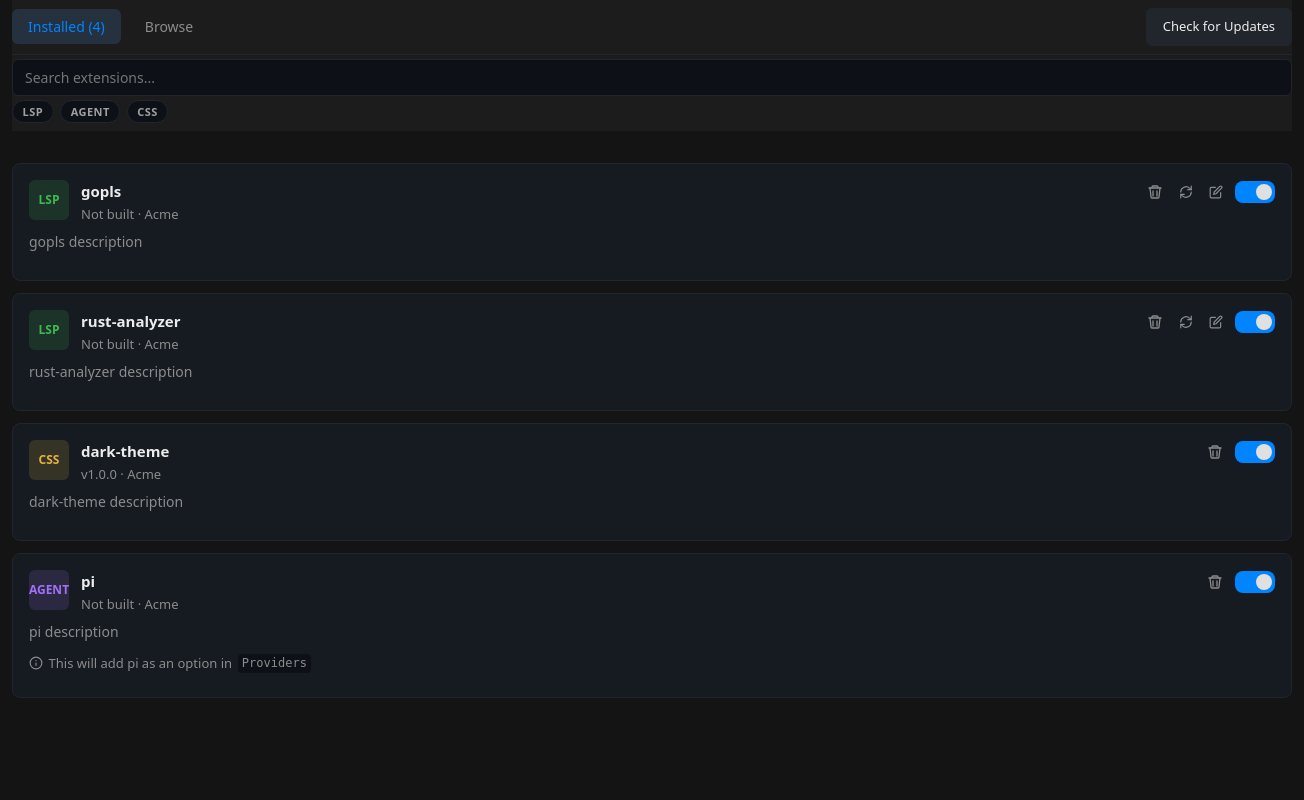
Test: the same selection under Browse › narrows the registry list and re-counts over what the registry holds
The image size is (1304, 800).
expect the text "gopls" is shown: met, box [81,180,121,202]
Click the button with class "category-badge" showing "LSP" at (33, 111), box [12,100,54,123]
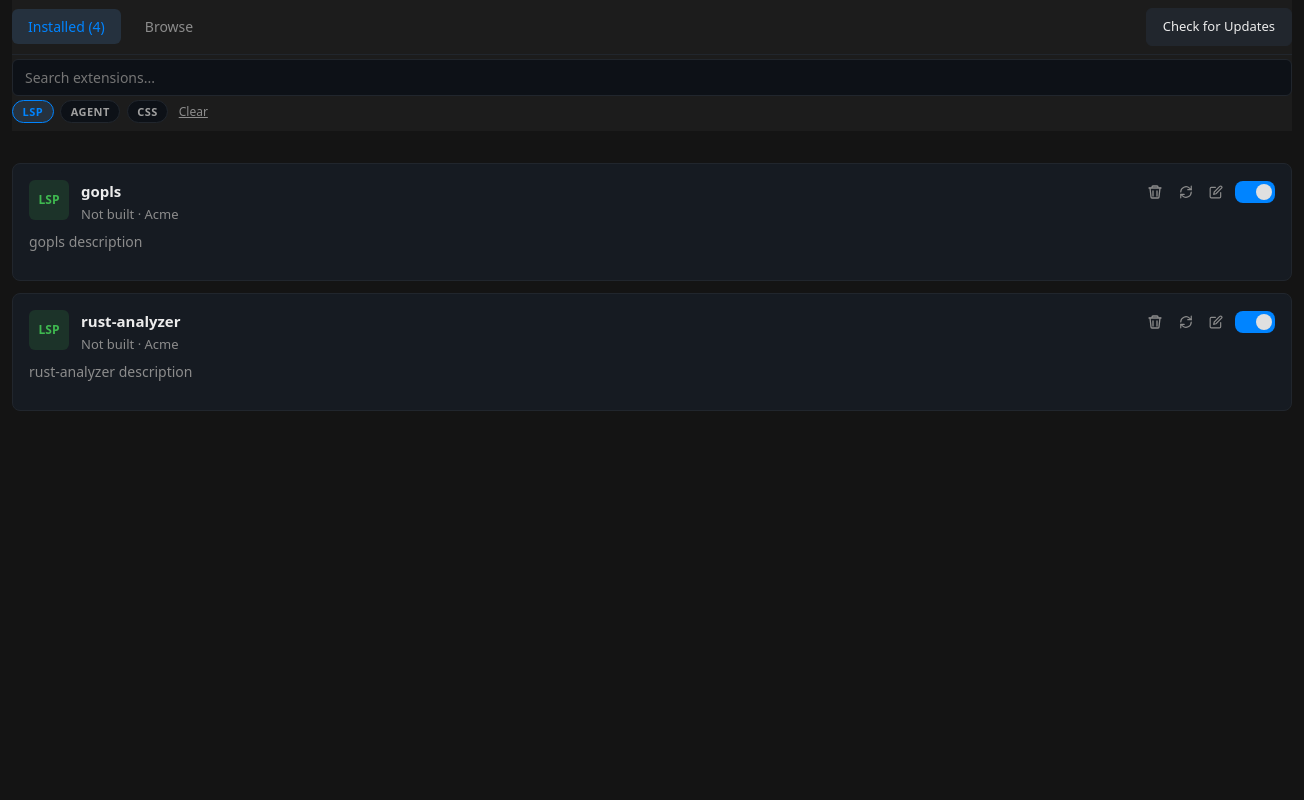
Click the button "Browse" at (169, 27), box [129,9,209,44]
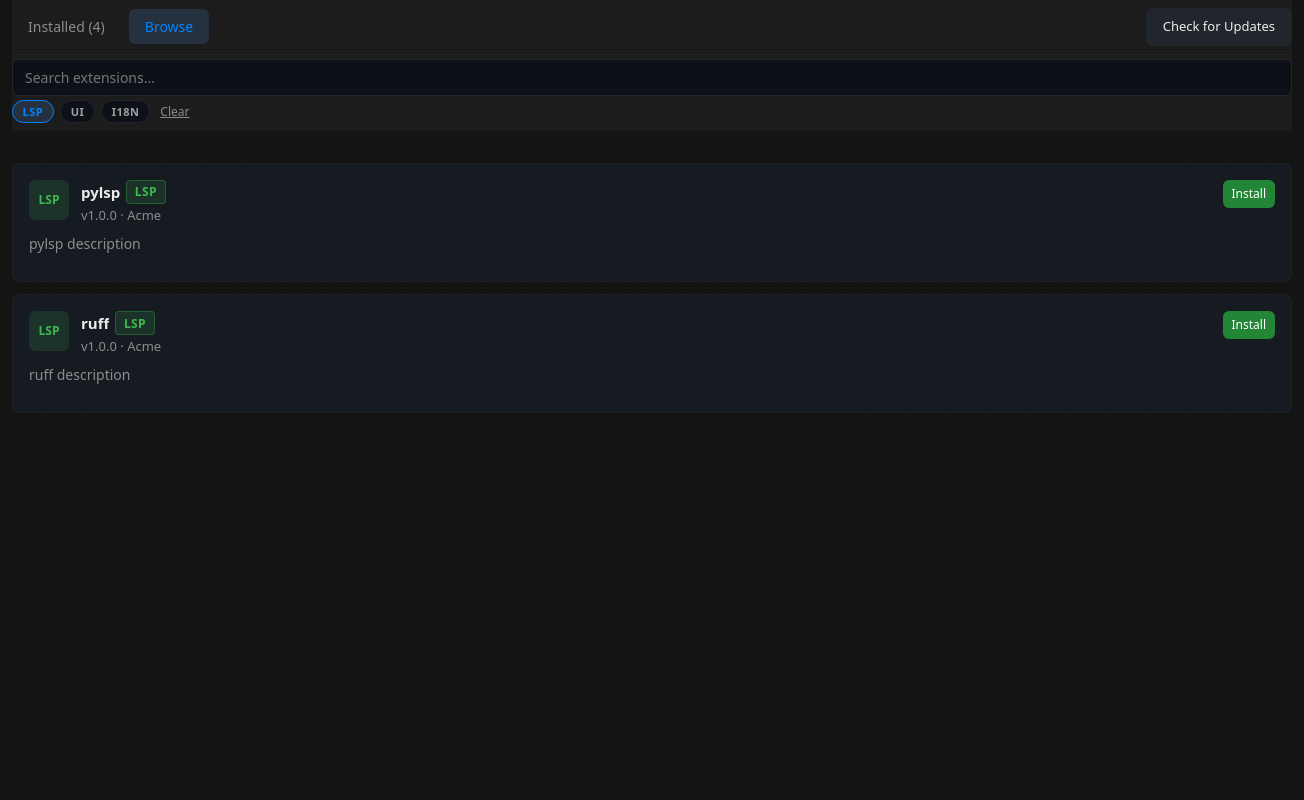
expect the 1st element with class "registry-card" is shown: met, box [12,163,1292,282]
